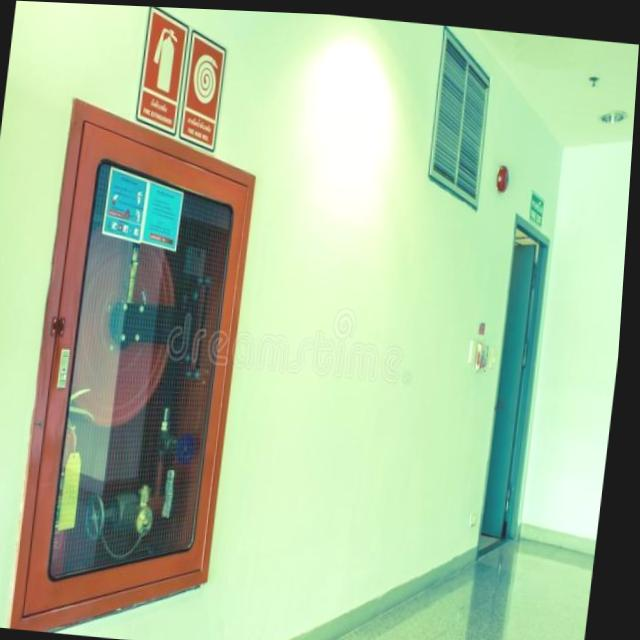FireExtinguisher: (33, 372, 107, 597)
